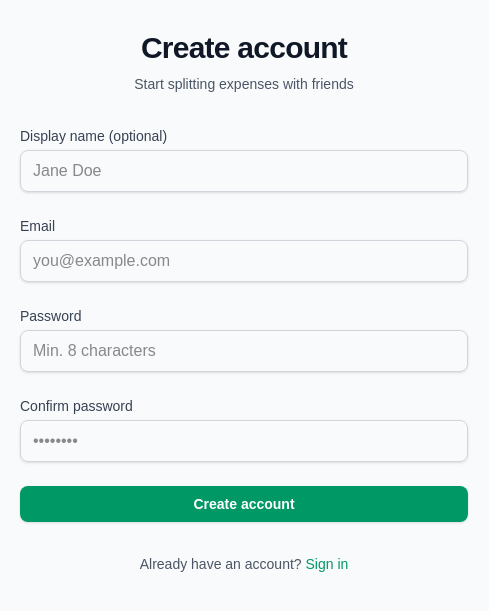
RegisterPage › should validate minimum password length
Type "a@b.com" into the field labelled "Email" at (244, 261), box [20,240,468,282]
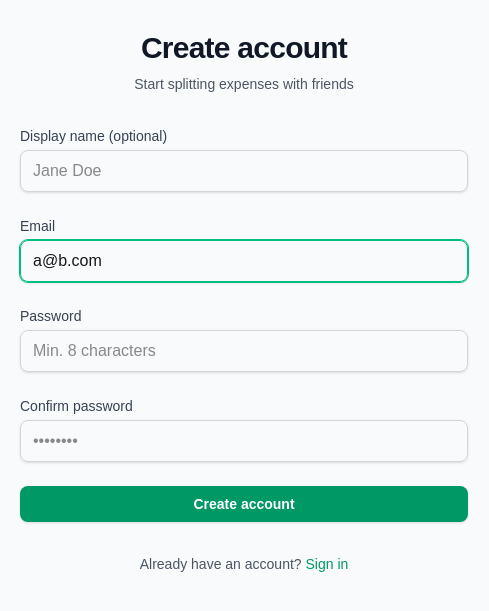
Type "short" into the password field labelled "Password" at (244, 351), box [20,330,468,372]
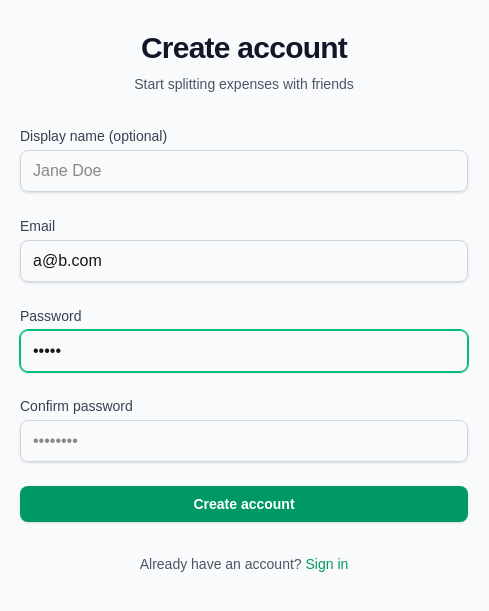
Type "short" into the password field labelled "Confirm password" at (244, 441), box [20,420,468,462]
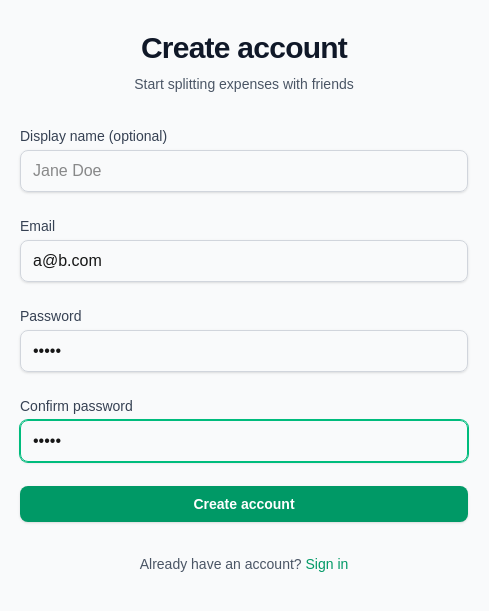
Click the button "Create account" at (244, 504), box [20,486,468,522]
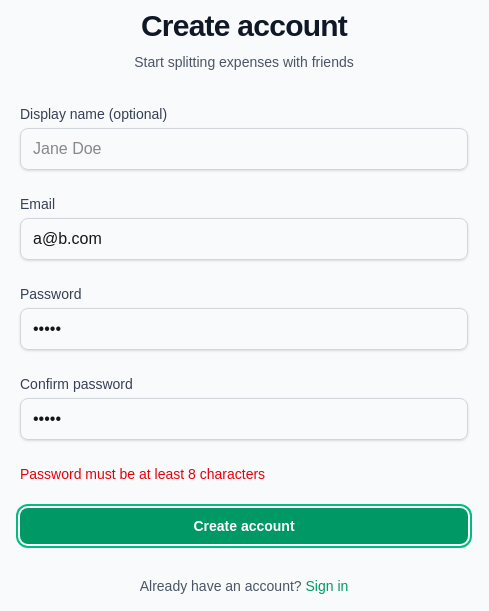
Now the message shows "at least 8 characters", box [20,466,265,482]
